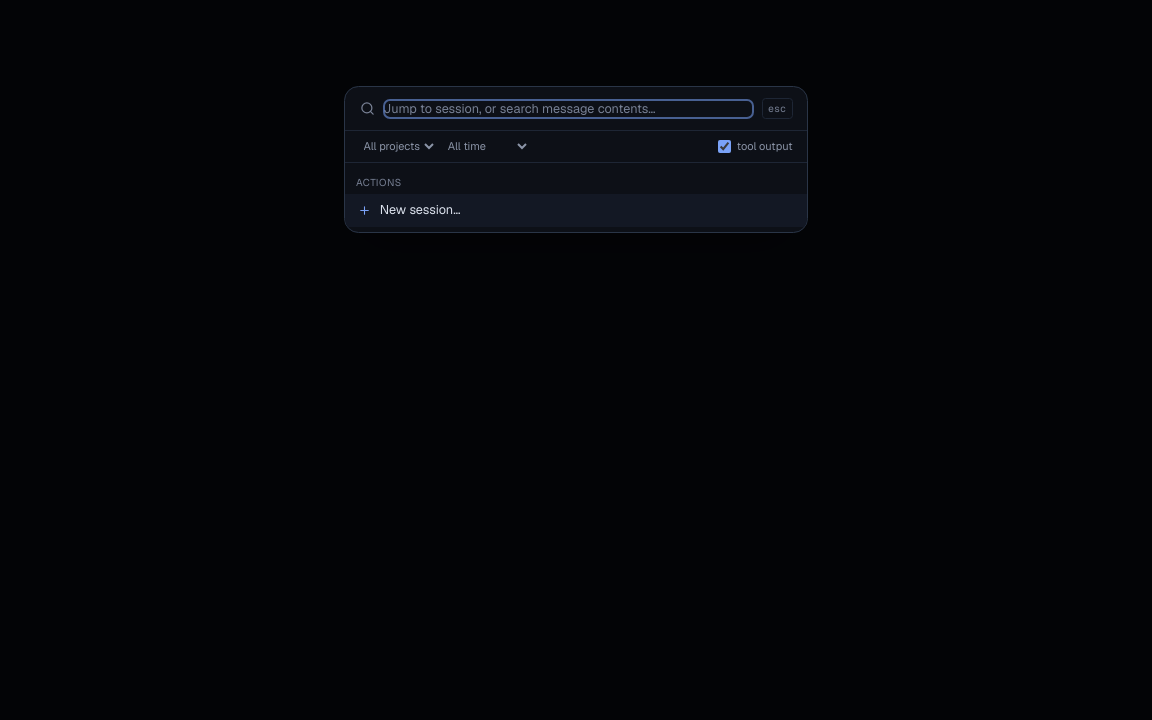
Test: CommandPalette search › ignores a late response for an older query
Type "old query" into the dropdown with placeholder "Jump to session, or search message contents…" at (568, 109), box [384,100,753,118]
Wait 300 ms
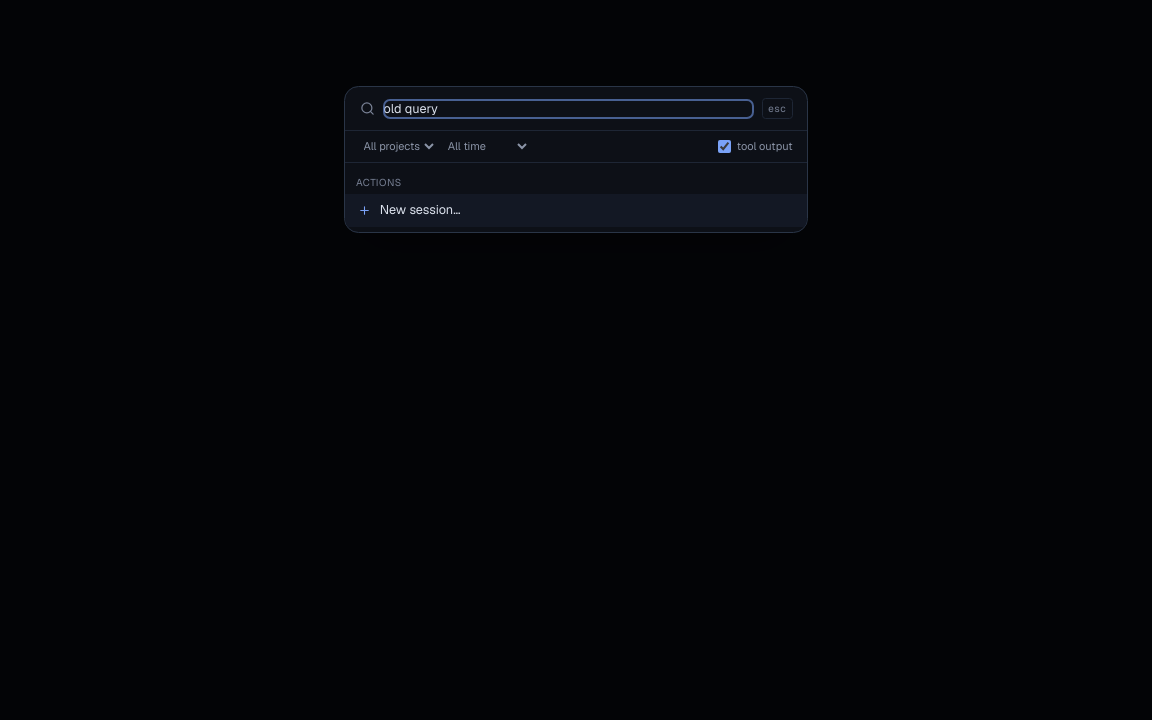
Replace the text in the dropdown with placeholder "Jump to session, or search message contents…" with "new query" at (568, 109), box [384,100,753,118]
Wait 300 ms
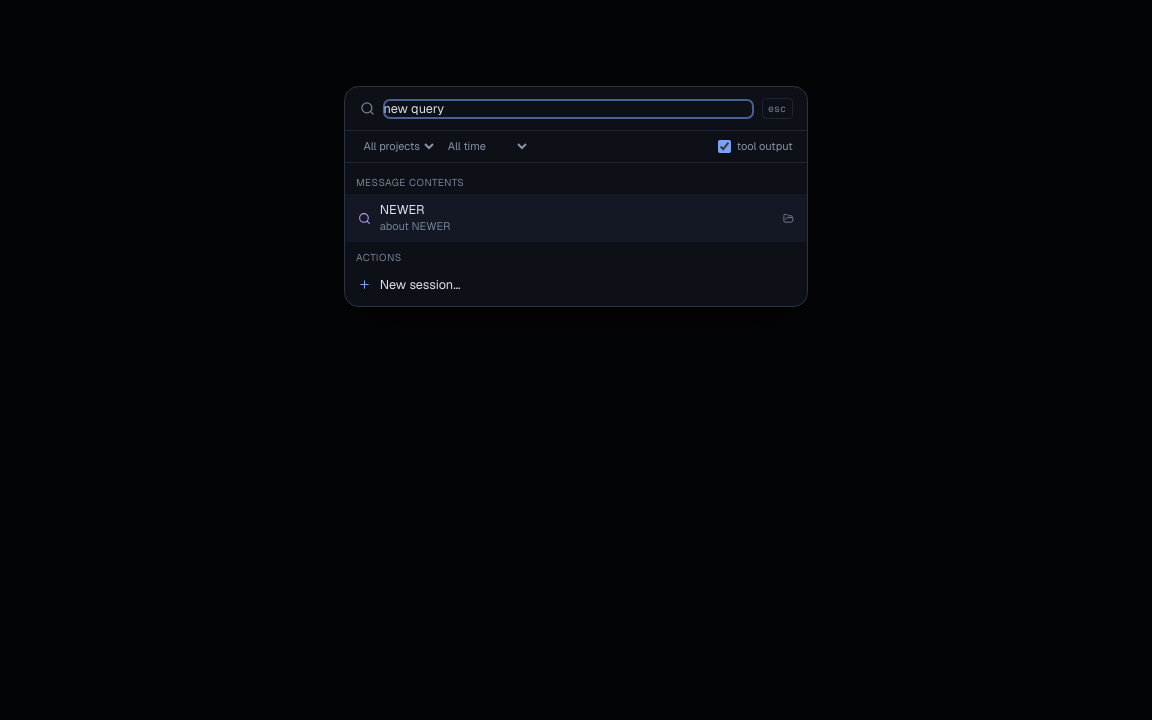
Check: the text "NEWER" is shown, box [380,201,424,218]
